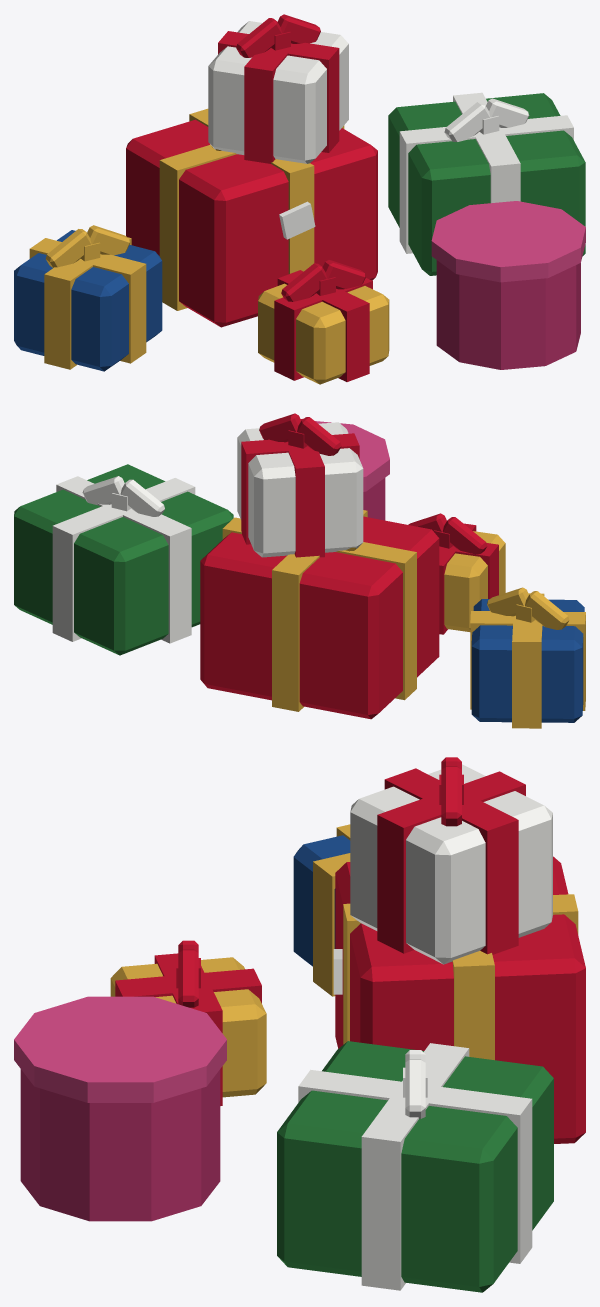
Rendered from presents.glb.
3 views of the same model, one above another, from view 1: azimuth 30°, elevation 25°; view 2: azimuth 150°, elevation 25°; view 3: azimuth 270°, elevation 25° (orthographic). The views are drawn at different scales.
Visible parts, largest first — view 1: presents; view 2: presents; view 3: presents.
Part boxes in pixels (x1,y1,x2,y2): presents: (14,14,585,384); presents: (14,413,585,728); presents: (14,757,585,1292).
Size of the model in its own units: 1.92 by 0.8533 by 1.26.
